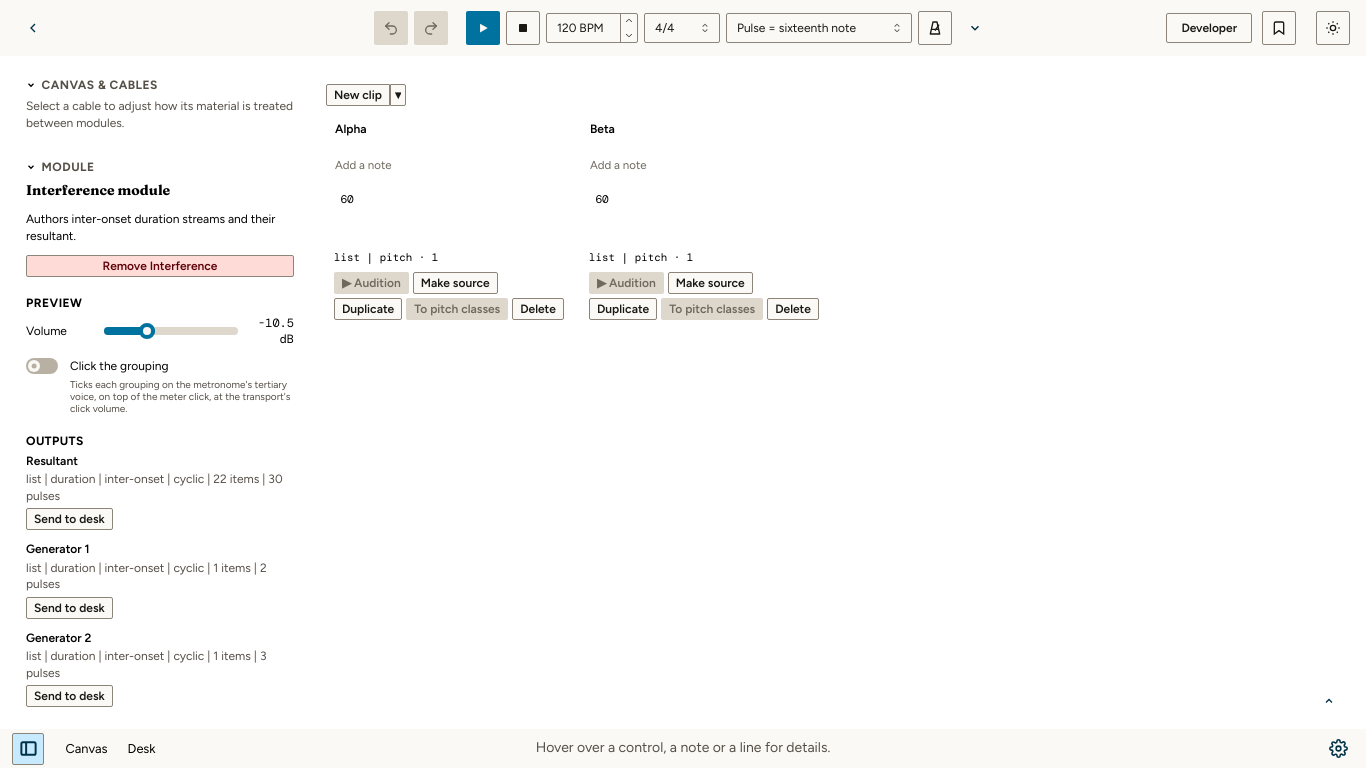
the bottom panel targets a module or a clip › double-clicking a desk card targets that clip and expands a collapsed panel
The image size is (1366, 768).
Expected: the button named "Show detail panel" is shown, [1318,690,1340,712]
Double-click the 1st text "list | pitch · 1" at (386, 257), box [334,250,438,264]
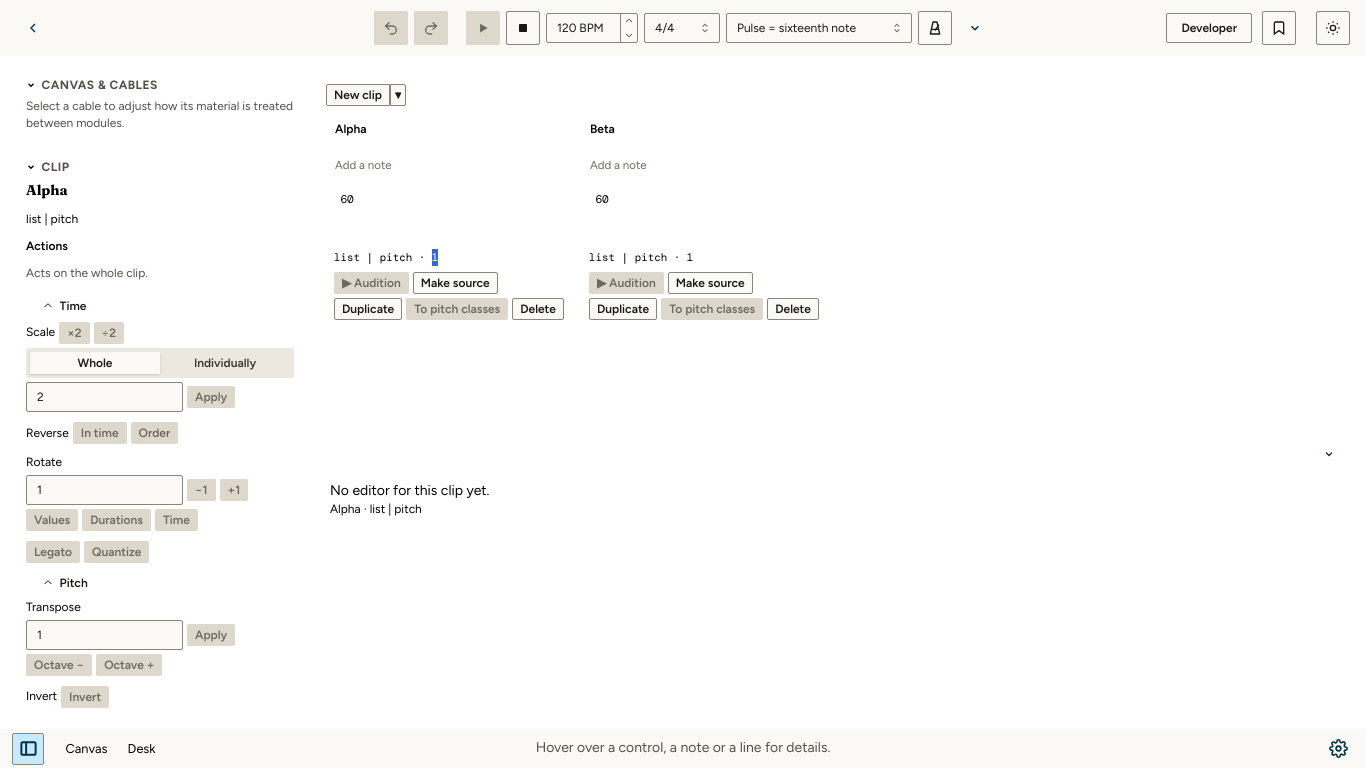
Now the button named "Hide detail panel" is shown, box [1318,443,1340,465]
Now the message "No editor for this clip yet. Alpha · list | pitch" is shown, box [330,482,490,516]
Now the message shows "No editor for this clip yet.", box [330,482,490,499]
